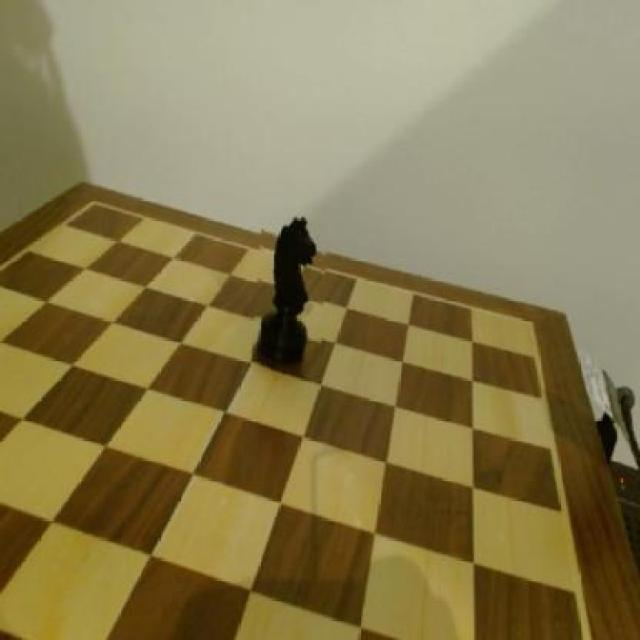black-king: (254, 209, 327, 376)
